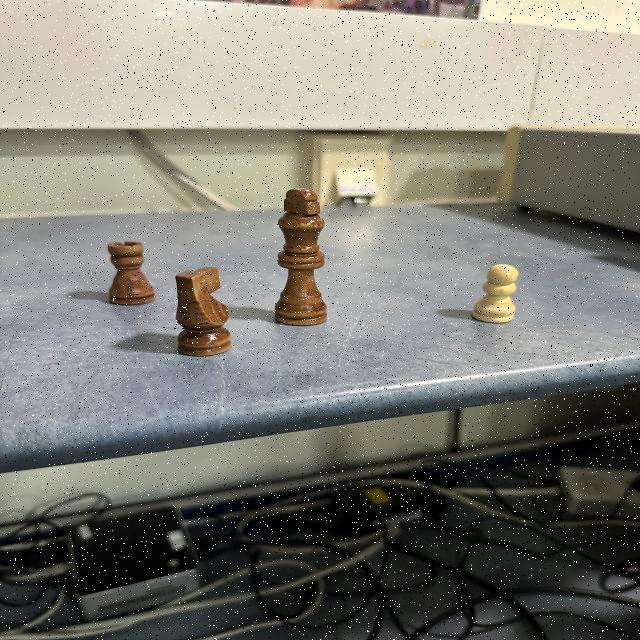Black-King: (276, 187, 324, 327)
Black-Knight: (176, 266, 230, 356)
Black-Rook: (106, 240, 154, 304)
White-Pawn: (473, 264, 519, 324)
